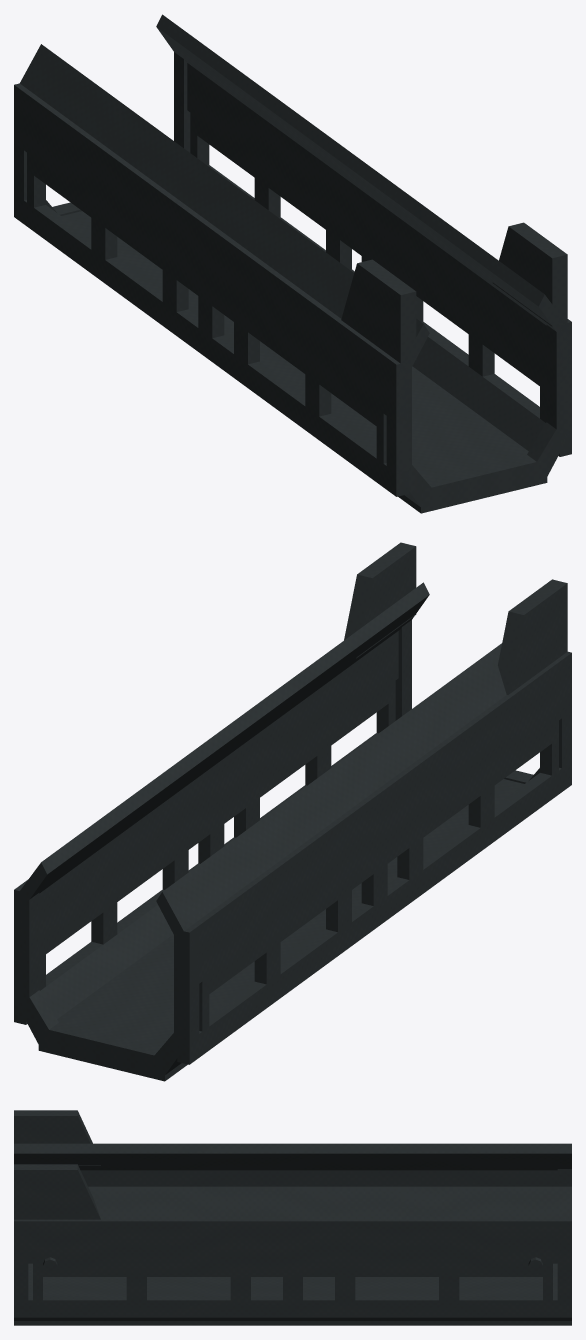
File: scar_guard_long.glb
3 views of the same model, one above another, from view 1: azimuth 30°, elevation 25°; view 2: azimuth 150°, elevation 25°; view 3: azimuth 270°, elevation 25° (orthographic). The views are drawn at different scales.
Parts seen in each view (by area): view 1: handguard__scar_guard_long_LOD0_RAID_Secondary_Original_stee, handguard__scar_guard_long_LOD1_RAID_Secondary_Original_stee; view 2: handguard__scar_guard_long_LOD0_RAID_Secondary_Original_stee, handguard__scar_guard_long_LOD1_RAID_Secondary_Original_stee; view 3: handguard__scar_guard_long_LOD0_RAID_Secondary_Original_stee, handguard__scar_guard_long_LOD1_RAID_Secondary_Original_stee.
Boxes of the visible parts, x1,y1,x2,y2 form: handguard__scar_guard_long_LOD0_RAID_Secondary_Original_stee: (14,14,571,513); handguard__scar_guard_long_LOD1_RAID_Secondary_Original_stee: (28,113,546,483); handguard__scar_guard_long_LOD0_RAID_Secondary_Original_stee: (14,542,571,1081); handguard__scar_guard_long_LOD1_RAID_Secondary_Original_stee: (40,682,558,1052); handguard__scar_guard_long_LOD0_RAID_Secondary_Original_stee: (14,1110,571,1325); handguard__scar_guard_long_LOD1_RAID_Secondary_Original_stee: (33,1263,552,1317).
Size of the model in its own units: 0.106 by 0.124 by 0.385.
Materials: 1 (1 with a texture image).
